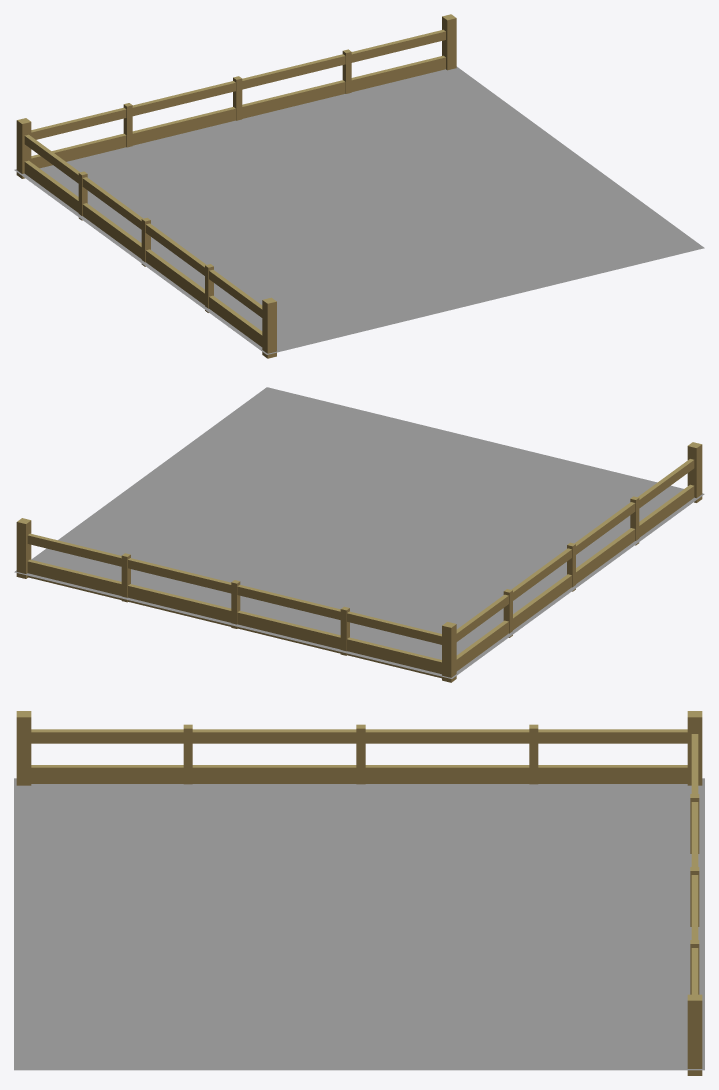
The model's file is tile_for_home_1x1_016.fbx.
The picture shows the model from 3 angles, top to bottom: view 1: azimuth 30°, elevation 25°; view 2: azimuth 150°, elevation 25°; view 3: azimuth 270°, elevation 25°; orthographic projection. The views are drawn at different scales.
Parts seen in each view (by area): view 1: tile_for_home_1x1_016; view 2: tile_for_home_1x1_016; view 3: tile_for_home_1x1_016.
Boxes of the visible parts, <box> form: tile_for_home_1x1_016: <box>14,14,704,358</box>; tile_for_home_1x1_016: <box>14,387,704,682</box>; tile_for_home_1x1_016: <box>14,711,704,1075</box>.
Size of the model in its own units: 800 by 95.9 by 800.
